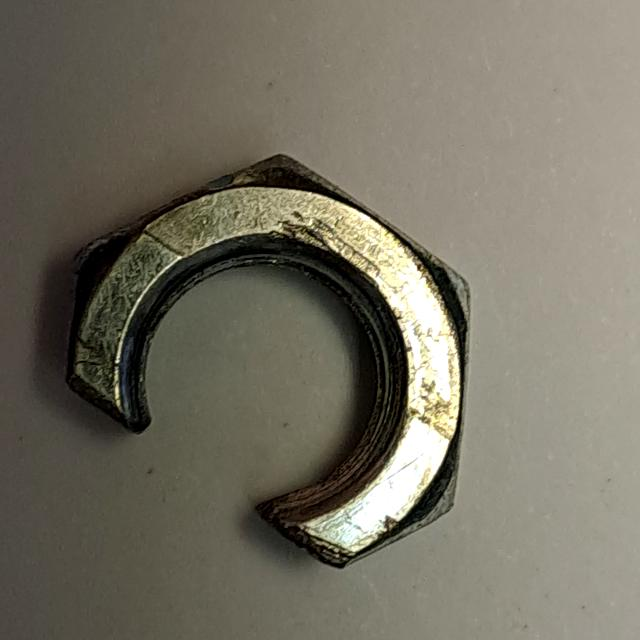Fracture: (49, 143, 488, 578)
